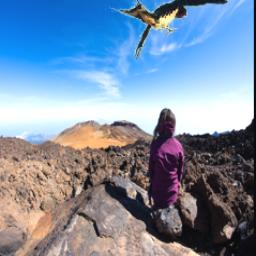Swallow: (101, 0, 231, 60)
